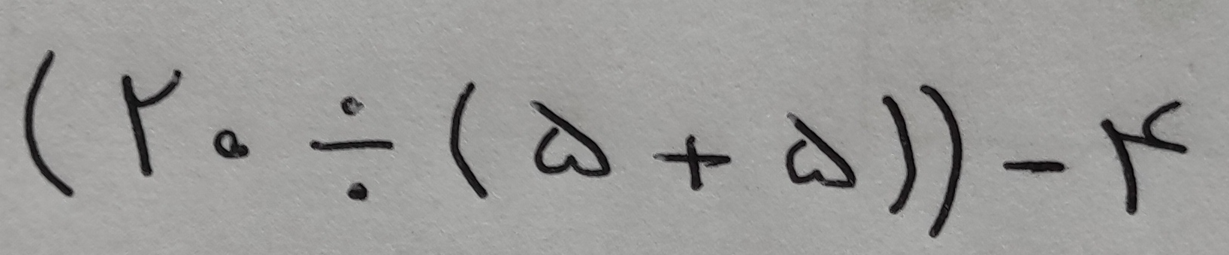character: (1100, 98, 1190, 214), (309, 95, 394, 204), (22, 46, 75, 198), (118, 63, 181, 180), (918, 83, 965, 236), (525, 98, 609, 179), (450, 80, 500, 198), (784, 108, 856, 188), (653, 135, 731, 192), (884, 91, 918, 214), (1003, 156, 1070, 176), (211, 126, 247, 159)
